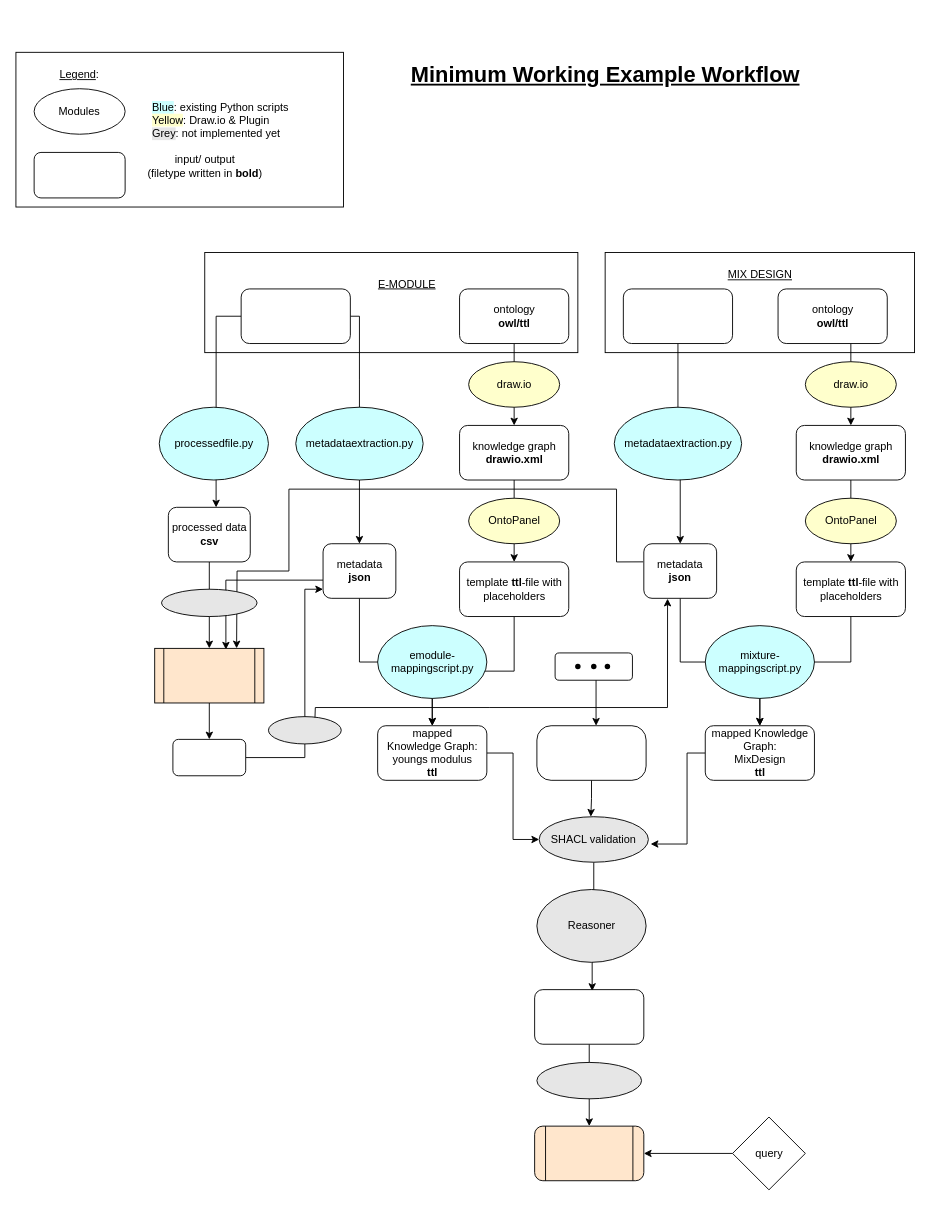
Image size: 931x1206. Some labels were removed from this diagram. Here are the shapes that lost their labels. From the top down, the centre of each, then its label:
(79,175): files
(295,316): raw data with metadata xlsx / dat
(677,316): raw data with metadata xlsx
(209,602): upload
(209,675): OpenBIS
(304,730): add to
(209,757): permID string?
(591,752): other knowledge graphs ttl
(589,1016): multiple seperate validated & reasoned knowledge graphs ttl
(589,1080): push and merge
(589,1153): TRIPLE-STORE
